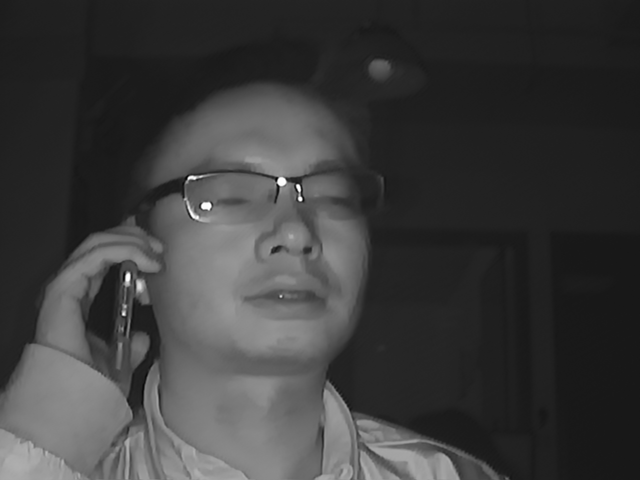hand: (36, 219, 159, 378)
